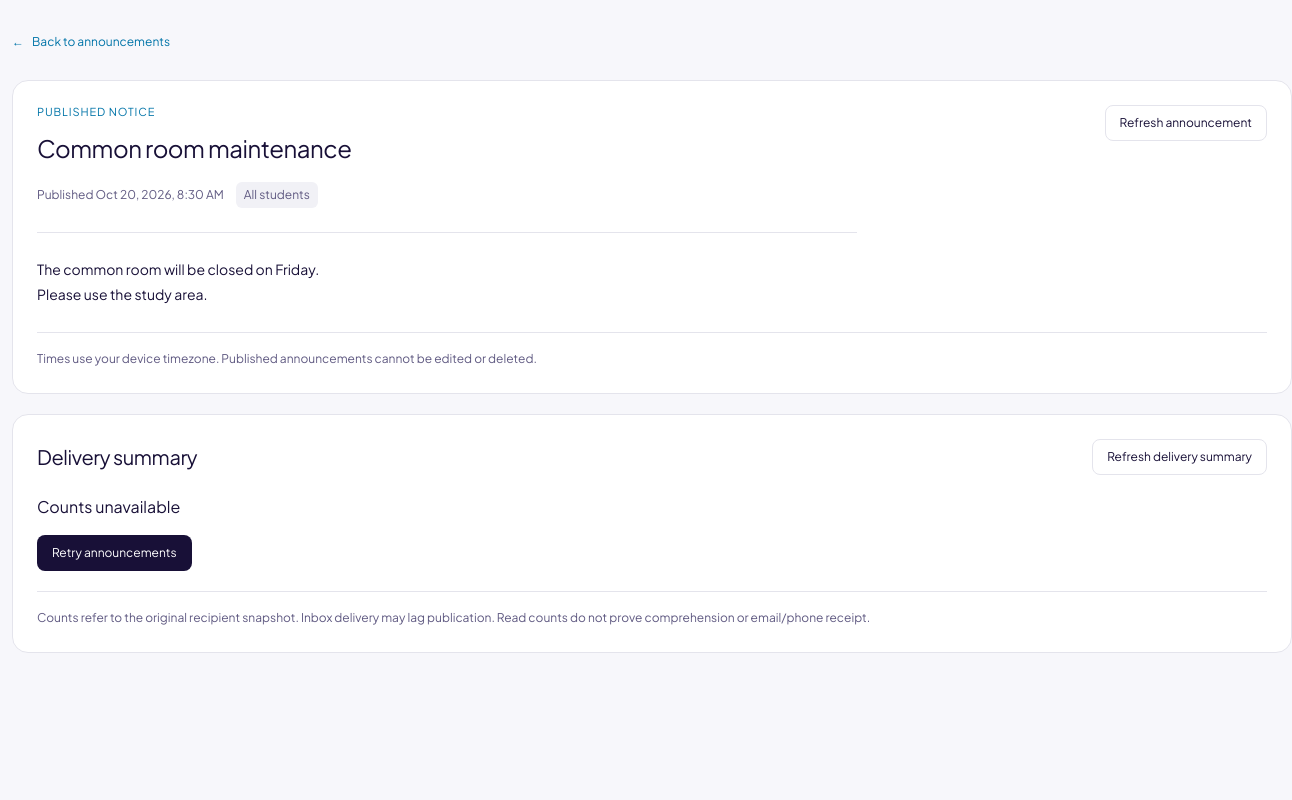
Test case: keeps published content visible when summary fetching fails
Expected: the message reads "Counts unavailable", [37, 496, 180, 517]
Expected: the heading "Common room maintenance" is shown, [37, 133, 352, 163]
Click the button "Retry announcements" at point(114, 553), box [37, 535, 192, 571]
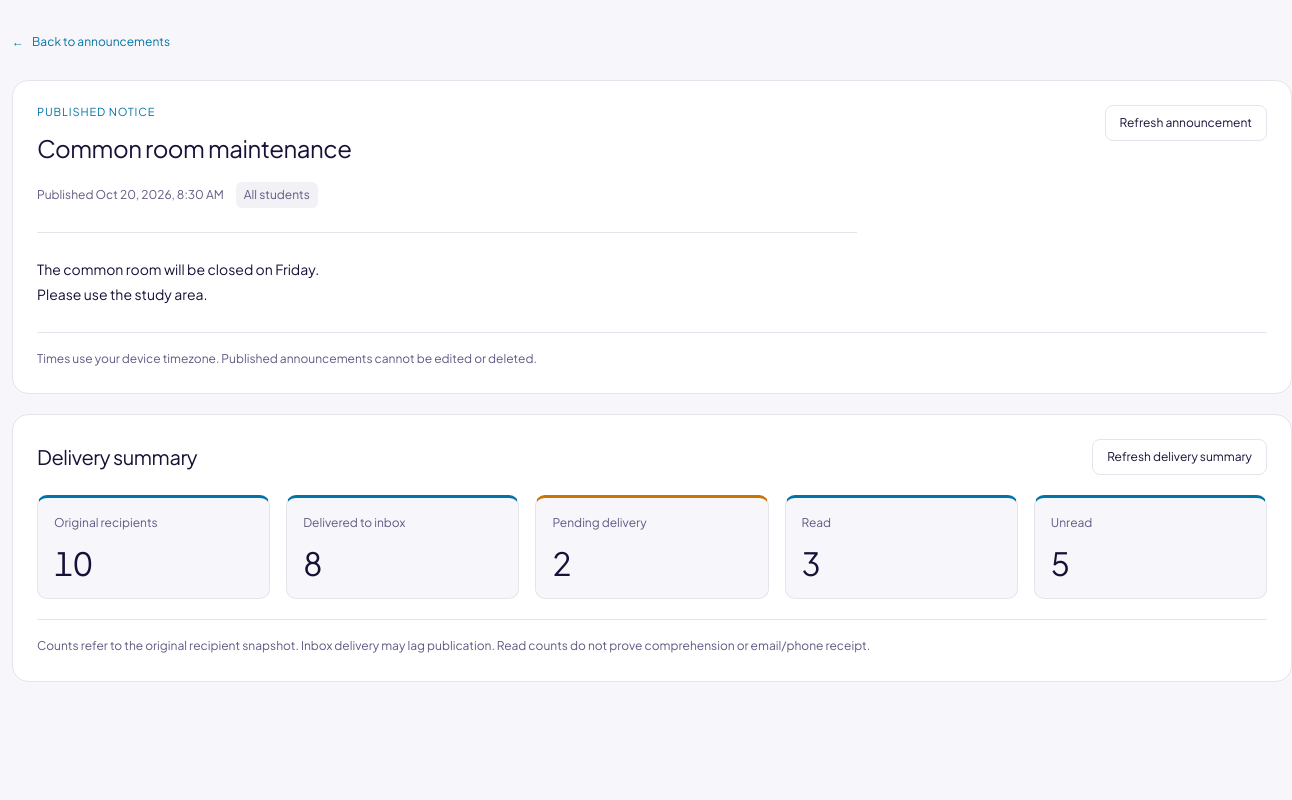
Now the text "Original recipients" is shown, box [54, 515, 158, 530]
